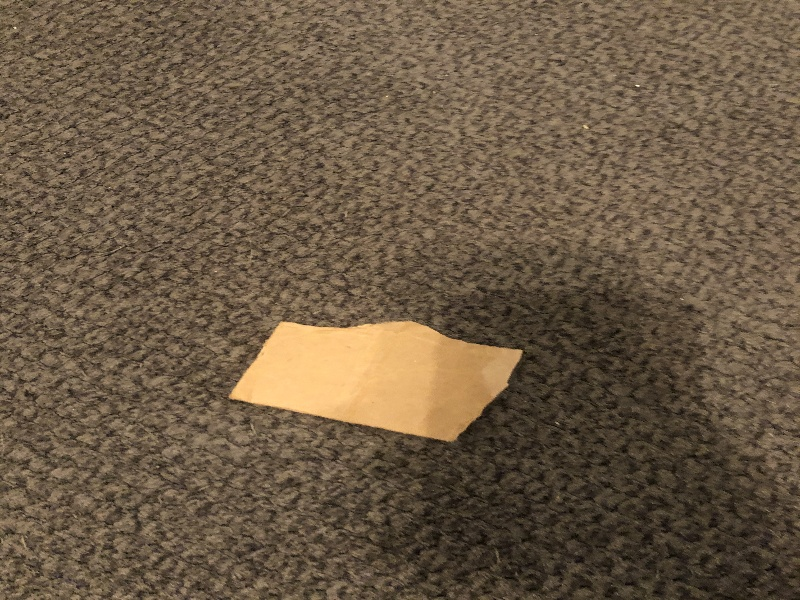cardboard: (225, 311, 532, 452)
